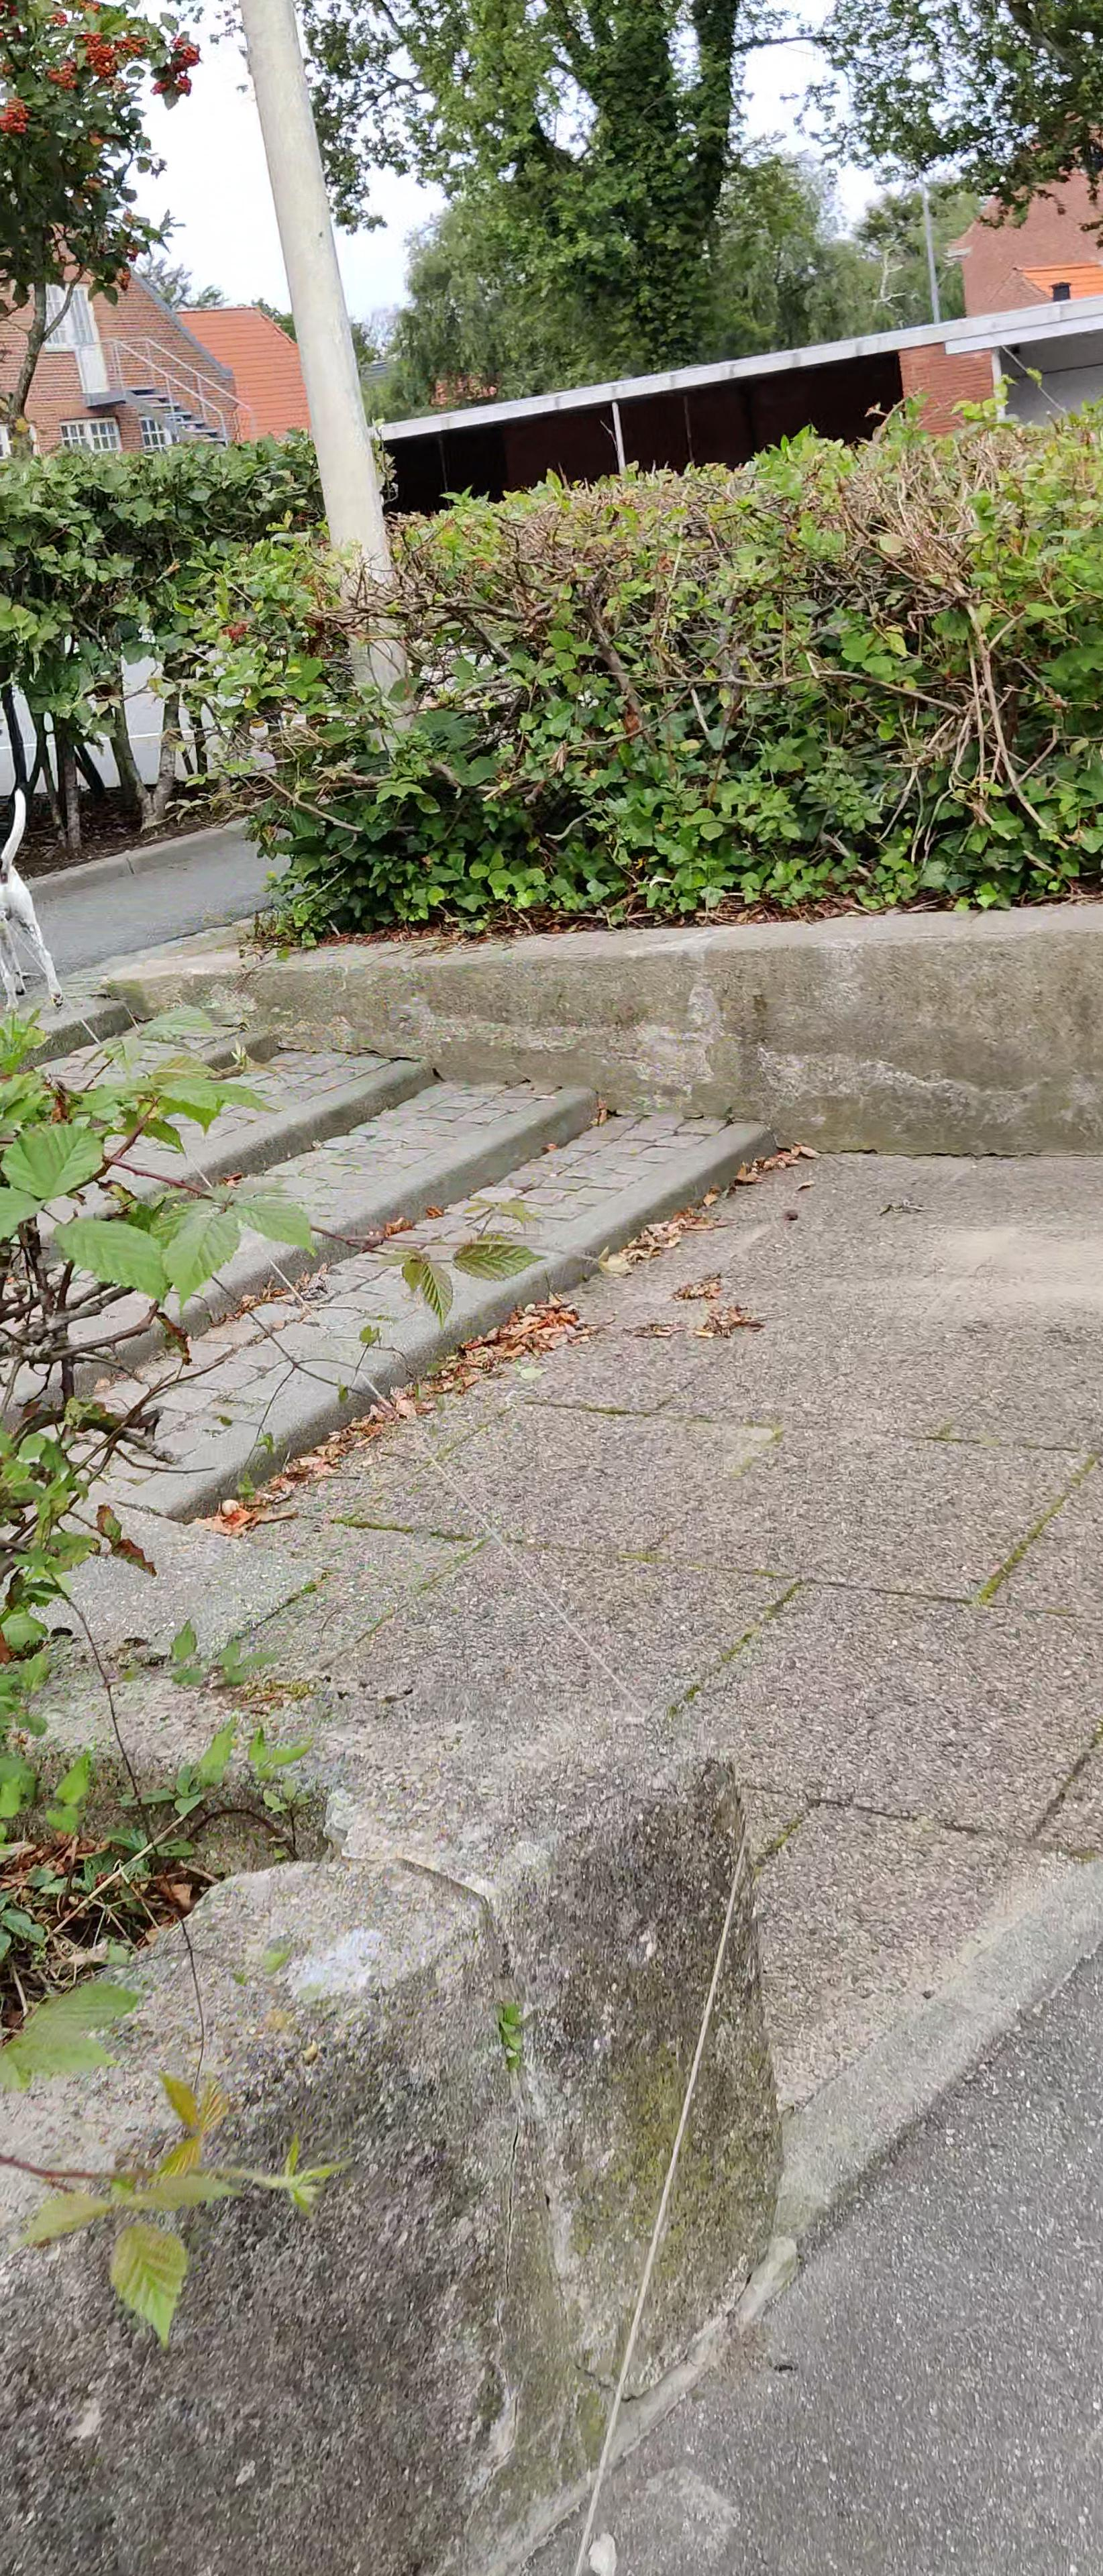Dog: (0, 785, 69, 1015)
